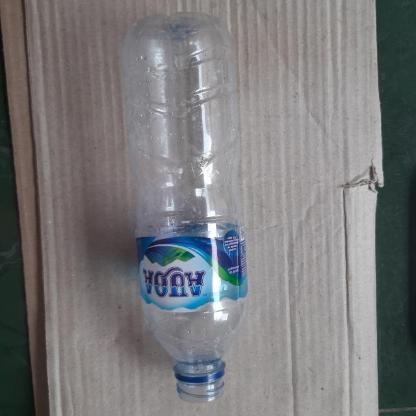Plastic Bottle: (122, 12, 248, 404)
